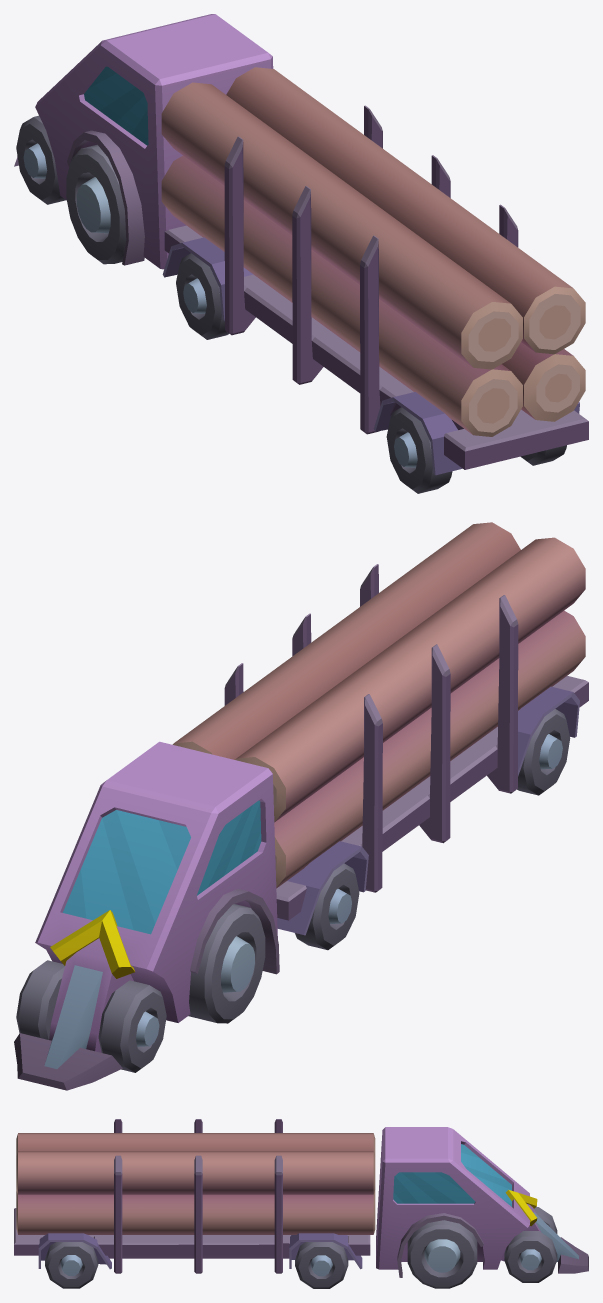
File: obstacle-lumber_truck_MRA.glb
The picture shows the model from 3 angles, top to bottom: view 1: azimuth 30°, elevation 25°; view 2: azimuth 150°, elevation 25°; view 3: azimuth 270°, elevation 25°; orthographic projection. The views are drawn at different scales.
Parts seen in each view (by area): view 1: obstacle-lumber_truck_MRA; view 2: obstacle-lumber_truck_MRA; view 3: obstacle-lumber_truck_MRA.
Boxes of the visible parts, x1,y1,x2,y2 form: obstacle-lumber_truck_MRA: (14,14,588,493); obstacle-lumber_truck_MRA: (14,522,588,1090); obstacle-lumber_truck_MRA: (14,1119,588,1288).
Size of the model in its own units: 3.27 by 4.48 by 17.69.
